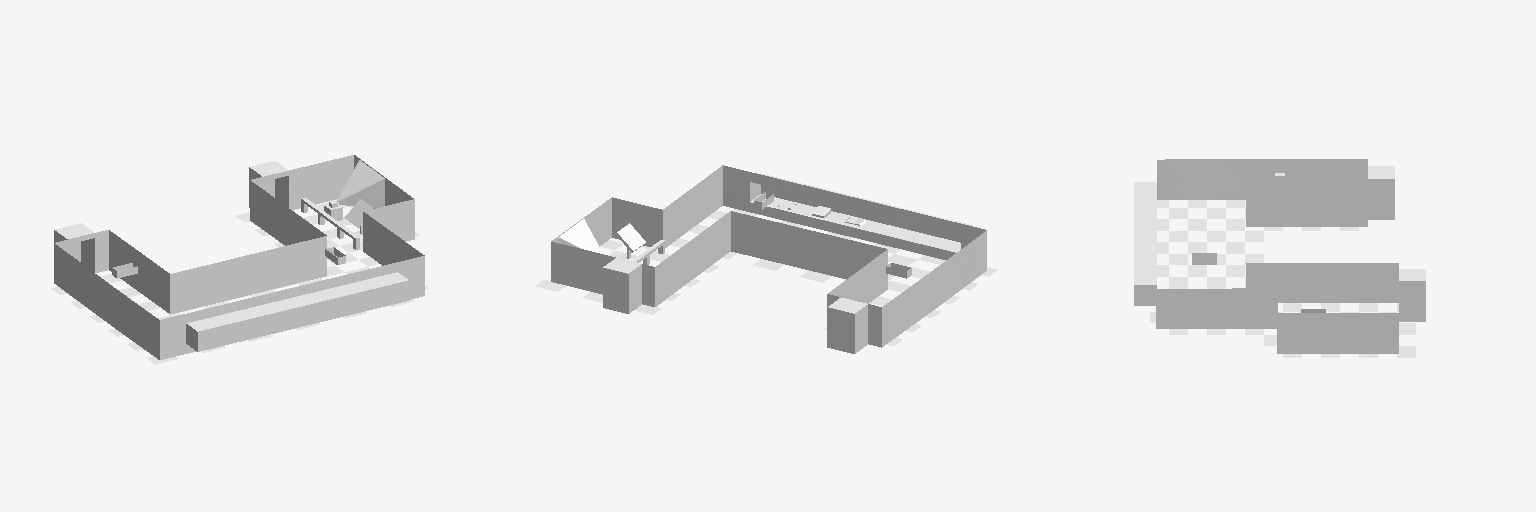
File: _BOS.obj
3 renders of one model, left to right at view 1: azimuth 30°, elevation 25°; view 2: azimuth 150°, elevation 25°; view 3: azimuth 270°, elevation 25°, orthographic.
Parts seen in each view (by area): view 1: _BOS; view 2: _BOS; view 3: _BOS.
Boxes of the visible parts, <box> form: _BOS: <box>51,155,428,364</box>; _BOS: <box>535,165,997,353</box>; _BOS: <box>1134,159,1425,357</box>.
Bounding box in the file's own units: 253 × 30.69 × 193.